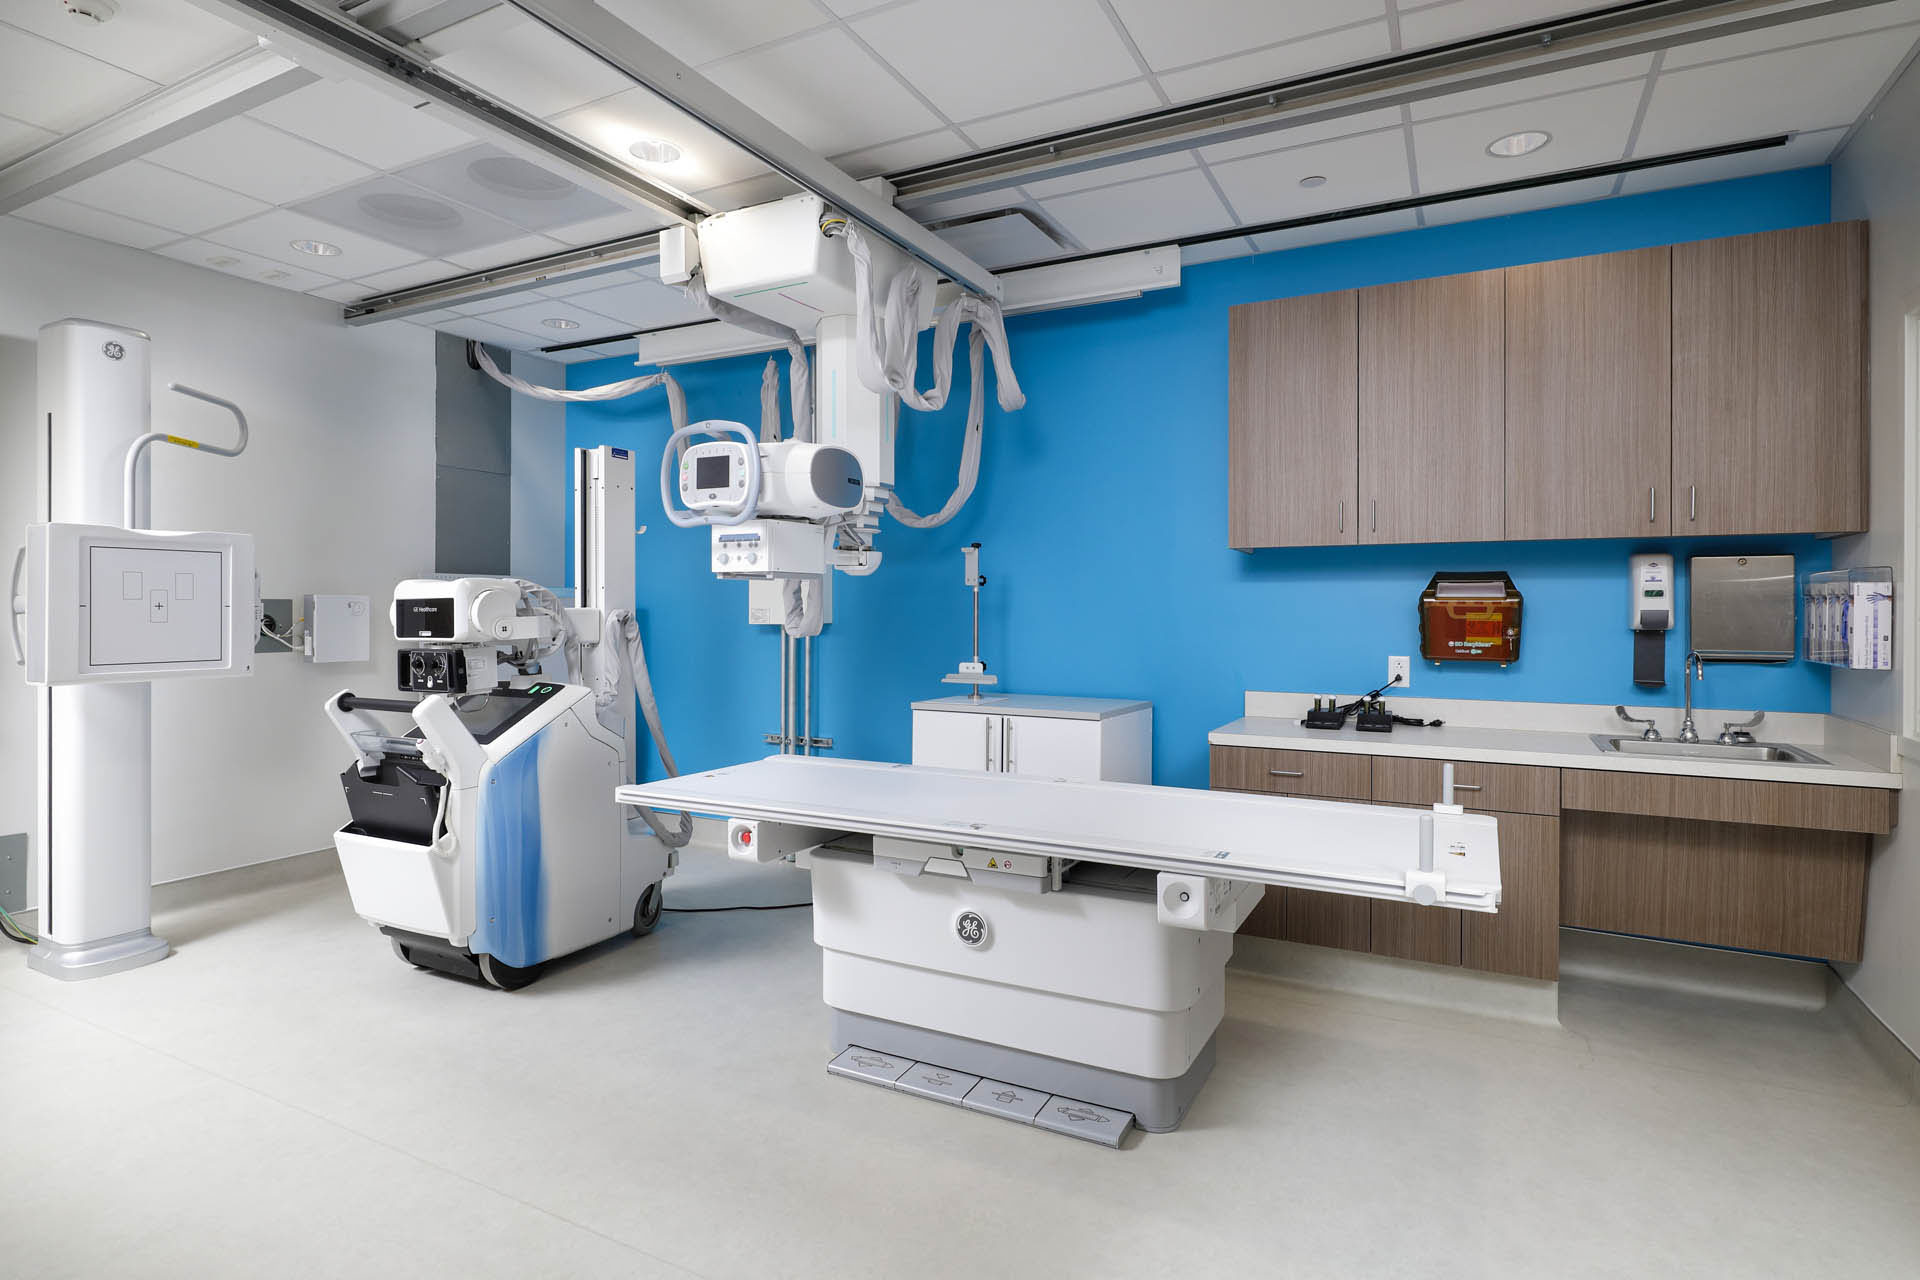bedside_monitor: (683, 450, 751, 511)
cabinet: (1221, 219, 1883, 541)
counter: (1211, 717, 1859, 1041)
countertop: (1203, 684, 1589, 761)
dispenser: (1629, 559, 1679, 693)
faucet: (1710, 701, 1774, 749), (1613, 701, 1667, 743)
handle: (1437, 776, 1489, 797), (1266, 766, 1317, 786), (981, 716, 994, 771), (1003, 719, 1014, 774), (1691, 483, 1697, 526), (1651, 486, 1657, 526), (1369, 501, 1376, 530), (1339, 501, 1344, 530)
medical_drawer: (903, 691, 1151, 784)
medical_waste_container: (1416, 571, 1531, 671)
operating_bed: (617, 746, 1504, 1151)
sink: (1597, 734, 1837, 791)
